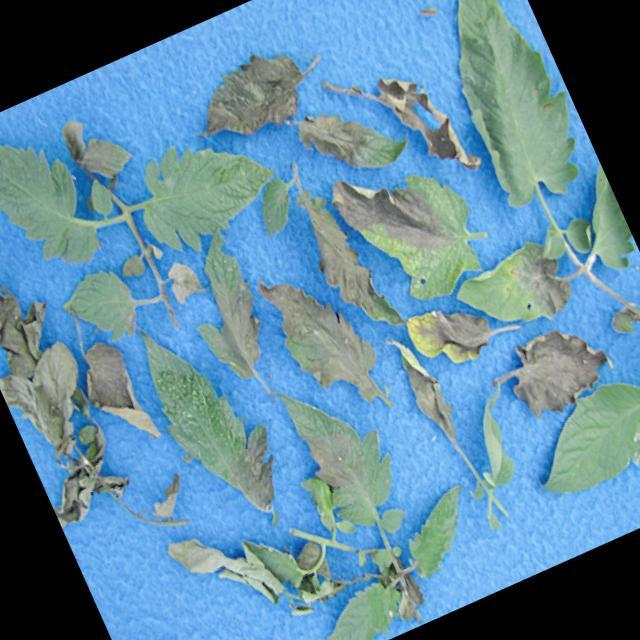Tomato healthy leaf: (120, 110, 292, 268), (0, 106, 109, 290), (311, 575, 414, 640)
Tomato late blight leaf: (407, 0, 613, 234), (128, 309, 300, 541), (321, 119, 504, 322), (276, 366, 419, 548), (258, 258, 401, 437), (282, 172, 416, 354), (167, 232, 294, 408), (286, 72, 428, 202), (450, 228, 588, 354), (383, 484, 488, 582)
